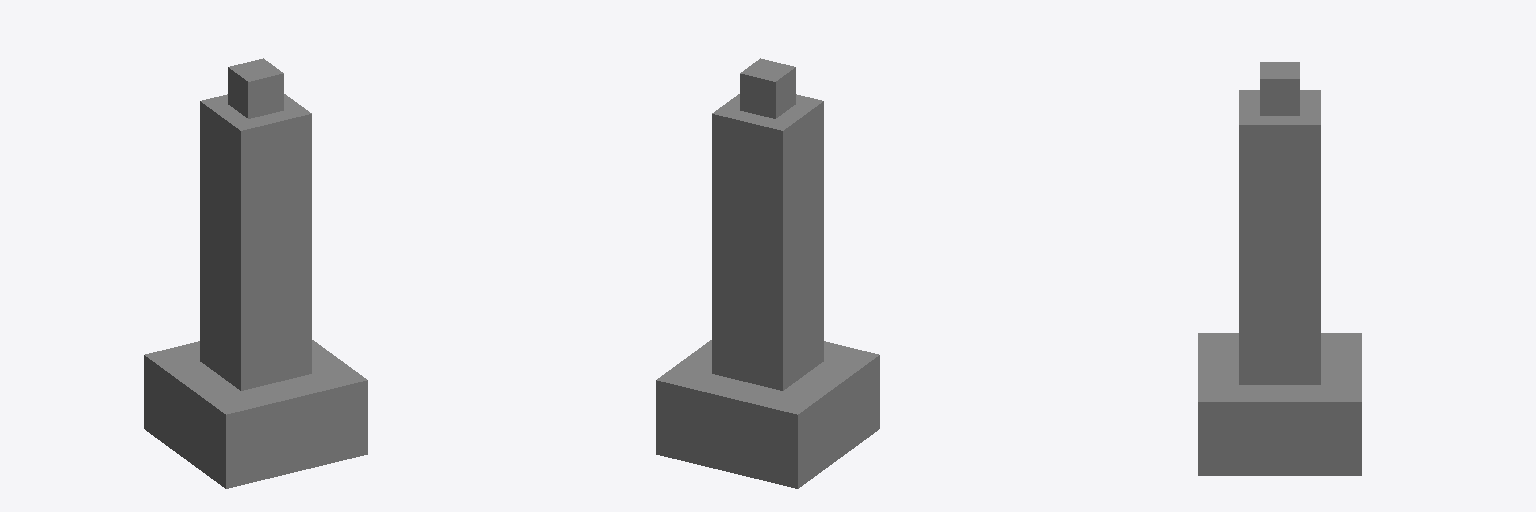
Rendered from missile_head_breaching.obj.
The picture shows the model from 3 angles: view 1: azimuth 30°, elevation 25°; view 2: azimuth 150°, elevation 25°; view 3: azimuth 270°, elevation 25°; orthographic projection.
Visible parts, largest first — view 1: group_5, group_4, group_6; view 2: group_5, group_4, group_6; view 3: group_5, group_4, group_6.
Part boxes in pixels (left/top/right/bottom): group_5: left=200, top=94, right=311, bottom=390; group_4: left=144, top=340, right=367, bottom=488; group_6: left=228, top=58, right=283, bottom=118; group_5: left=712, top=94, right=823, bottom=390; group_4: left=656, top=340, right=879, bottom=488; group_6: left=740, top=58, right=795, bottom=118; group_5: left=1239, top=90, right=1320, bottom=384; group_4: left=1198, top=333, right=1361, bottom=475; group_6: left=1260, top=62, right=1299, bottom=115.
Bounding box in the file's own units: 50.39 × 126 × 50.39.